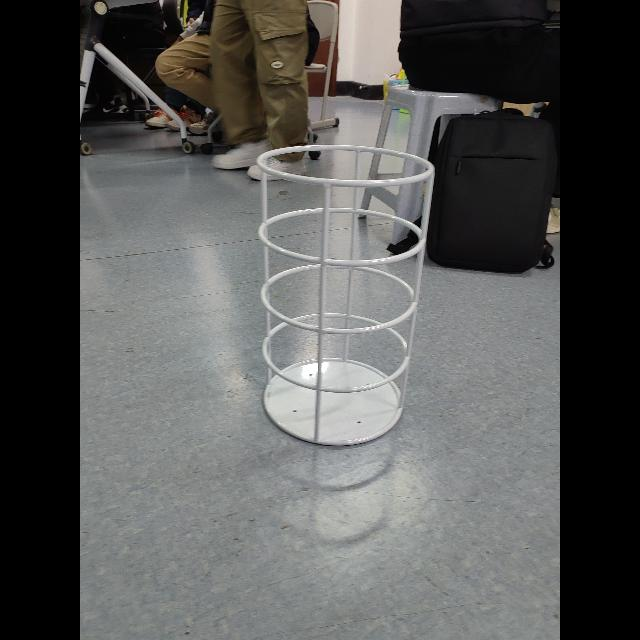S: (254, 140, 444, 448)
